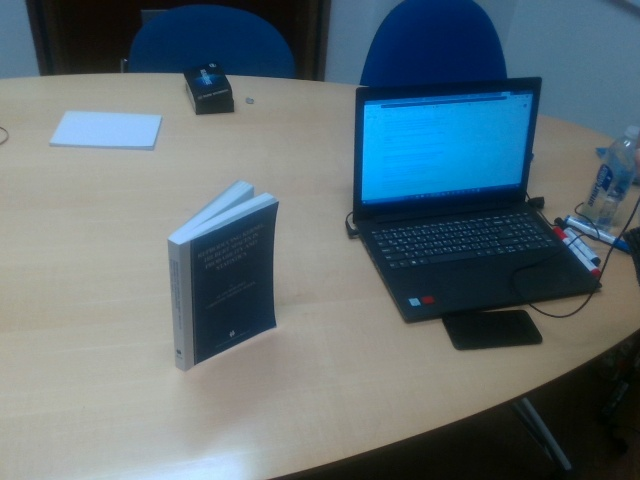book: (163, 183, 278, 365)
